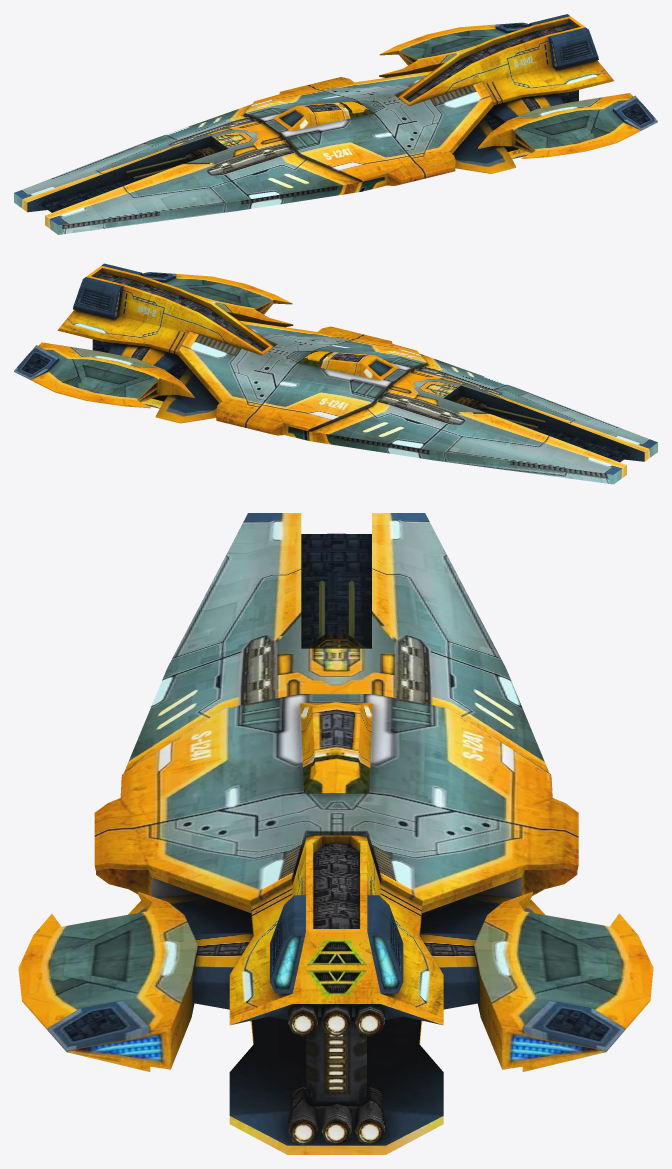
File: space_ship.glb
The picture shows the model from 3 angles, top to bottom: view 1: azimuth 30°, elevation 25°; view 2: azimuth 150°, elevation 25°; view 3: azimuth 270°, elevation 25°; orthographic projection. The views are drawn at different scales.
Parts seen in each view (by area): view 1: Plane.005_0; view 2: Plane.005_0; view 3: Plane.005_0.
Part boxes in pixels (x1,y1,x2,y2): Plane.005_0: (14, 14, 657, 234); Plane.005_0: (14, 263, 657, 484); Plane.005_0: (18, 513, 653, 1154).
Size of the model in its own units: 11.87 by 2.23 by 5.89.
1 material, 1 textured.
